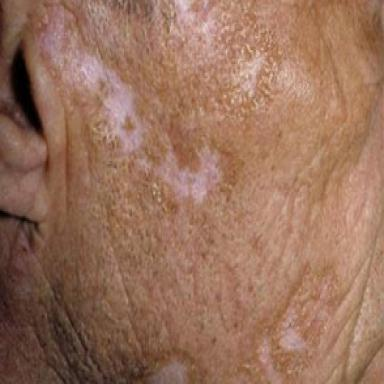Lupus-Erythematosus-Chronicus-Discoides: (42, 14, 143, 153), (153, 149, 219, 202)
